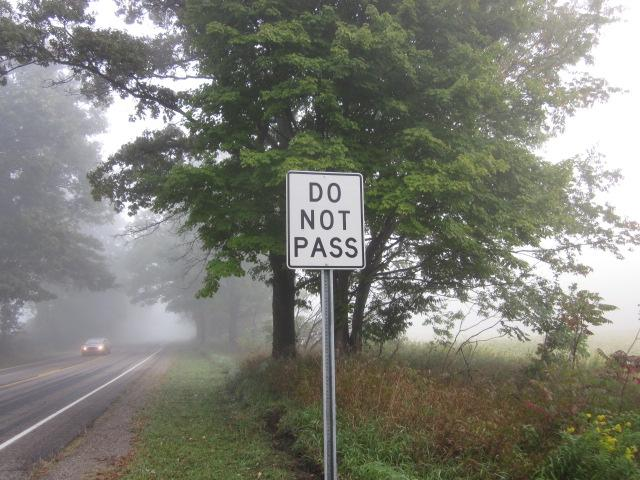regulatory: (283, 169, 369, 276)
